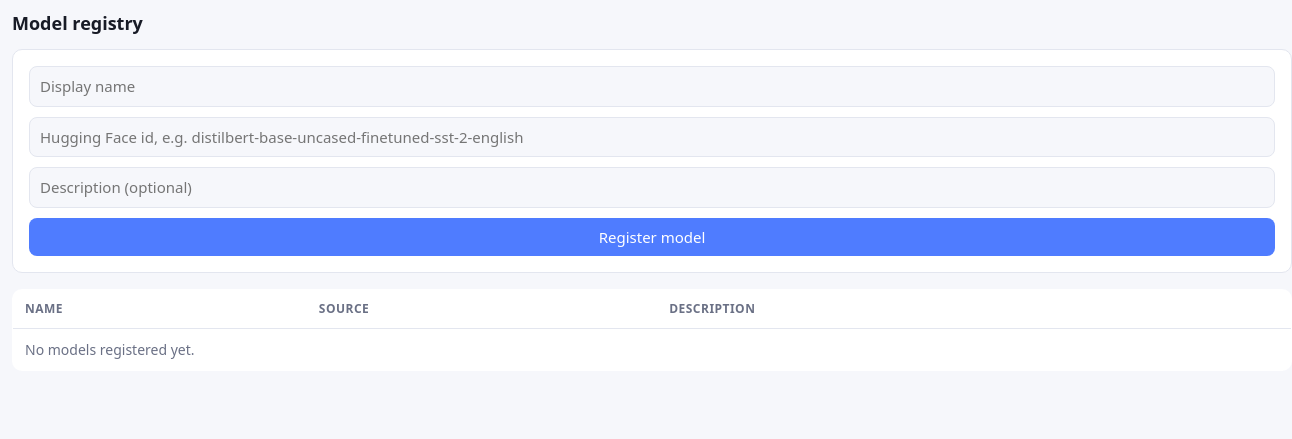
Test case: ModelsPanel › shows the server's error, e.g. a duplicate name
Type "x" into the field with placeholder "Display name" at (652, 86), box [29,66,1275,106]
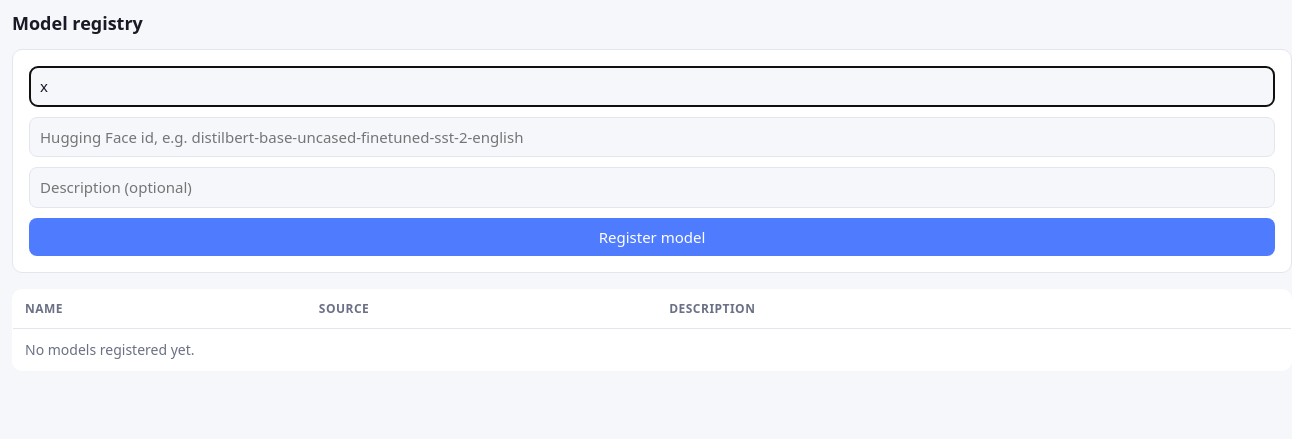
Type "y" into the field with placeholder "Hugging Face id" at (652, 137), box [29,116,1275,157]
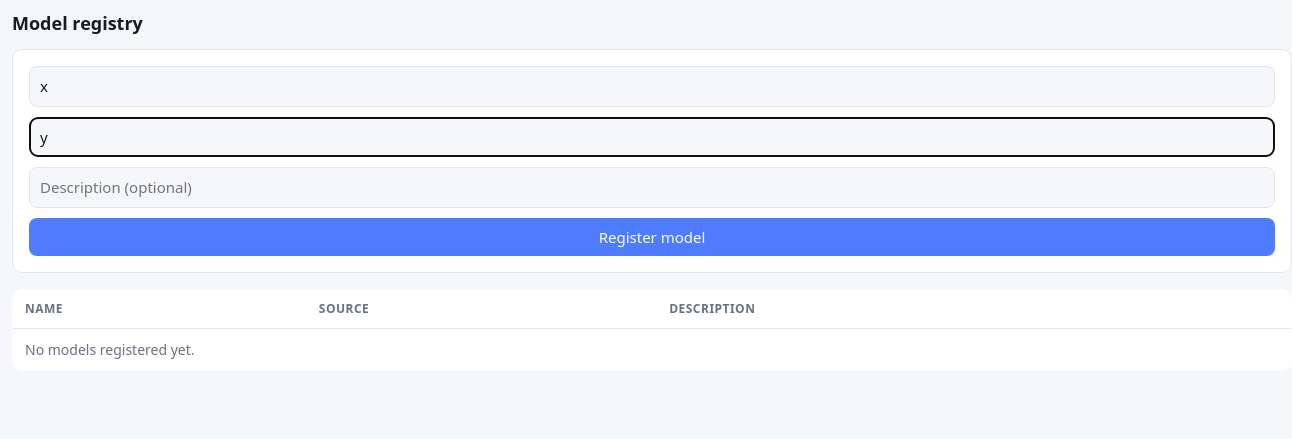
Click the button "Register model" at (652, 237), box [29,218,1275,256]
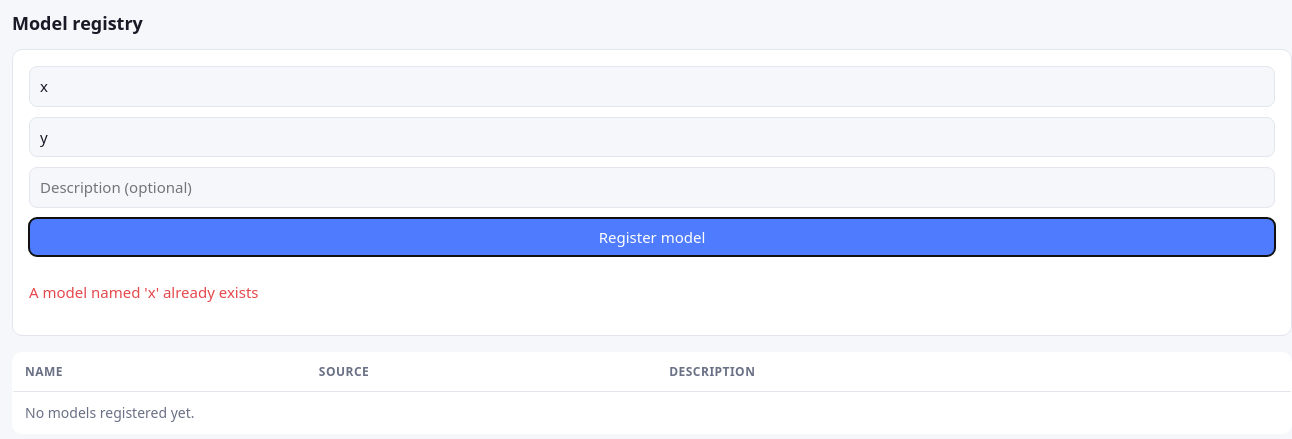
Result: the message shows "already exists" at [29,282,258,302]
